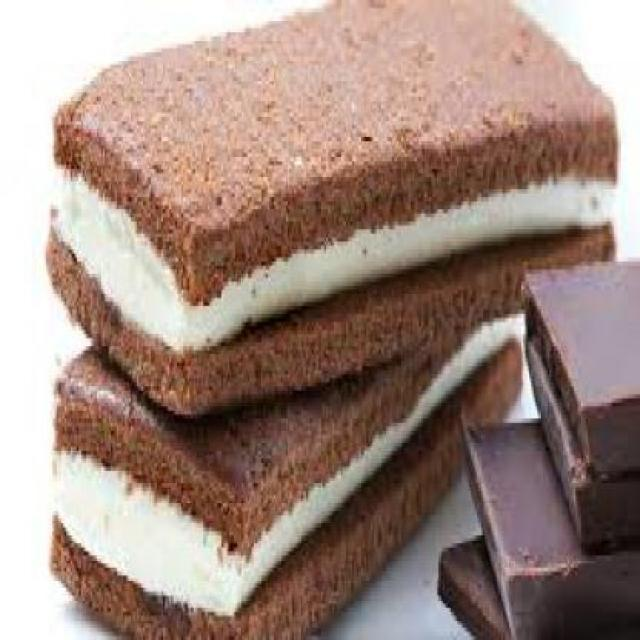Chocolate bar packaged: (516, 282, 638, 636)
Merendine packaged: (42, 16, 618, 402), (41, 313, 522, 636)
